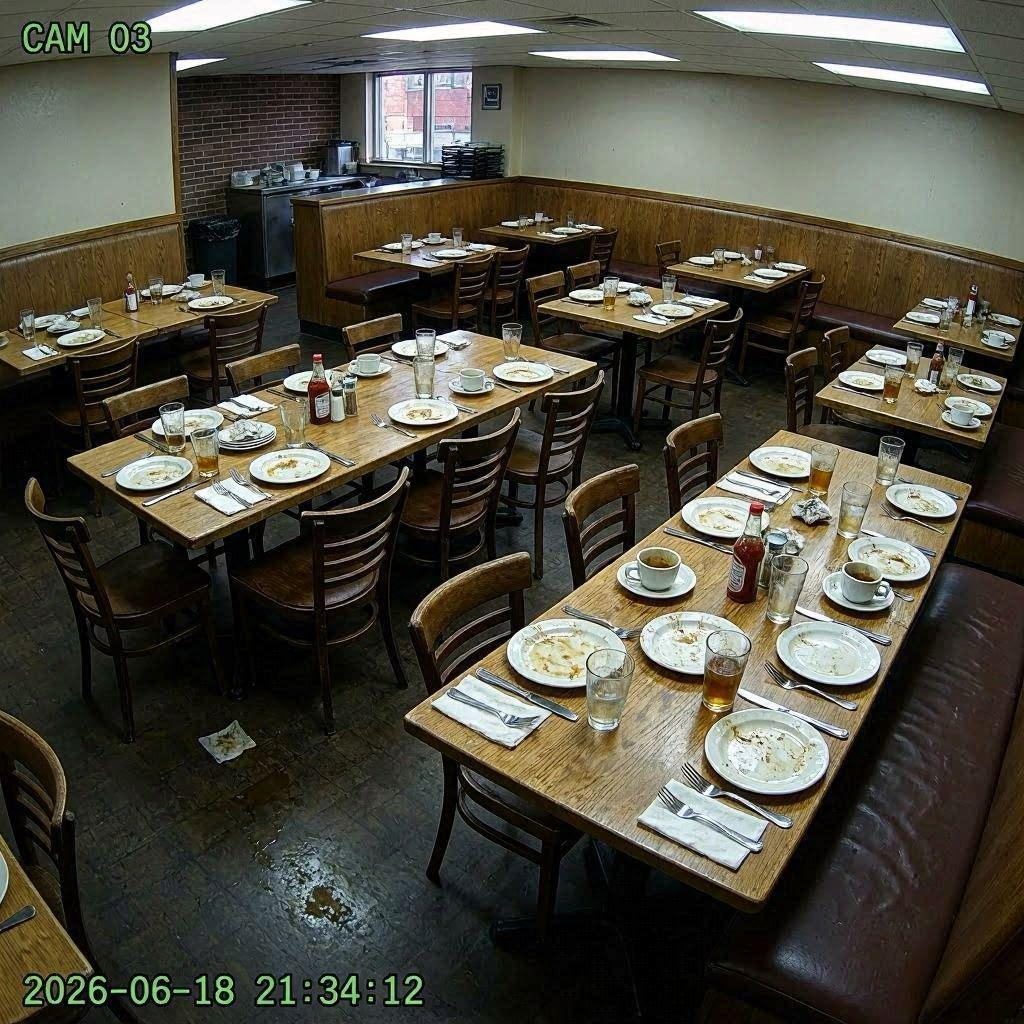dirty: (501, 432, 971, 853), (75, 345, 617, 517), (846, 310, 1019, 452), (3, 265, 256, 355), (581, 253, 713, 364)
